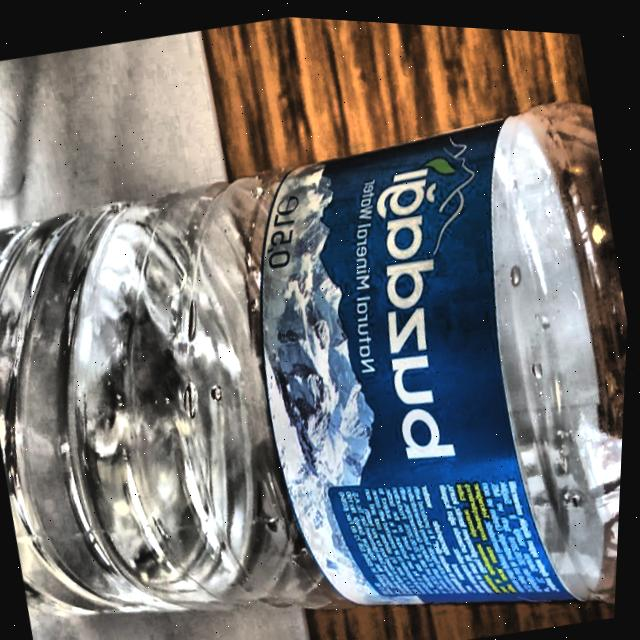plastic: (0, 43, 638, 640)
